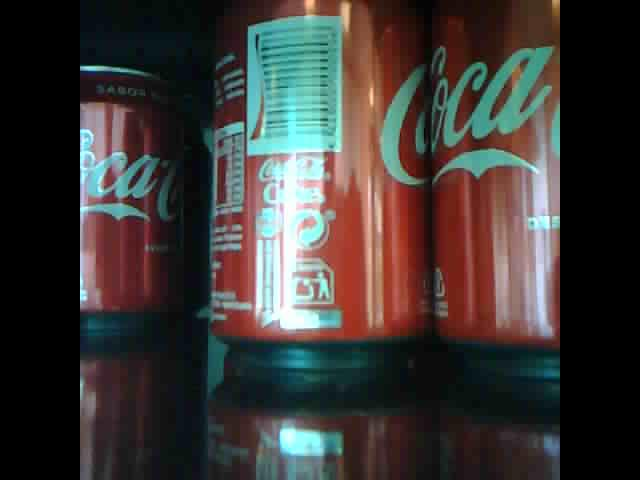coca cola: (212, 1, 431, 369), (433, 1, 559, 355), (78, 57, 180, 334)
